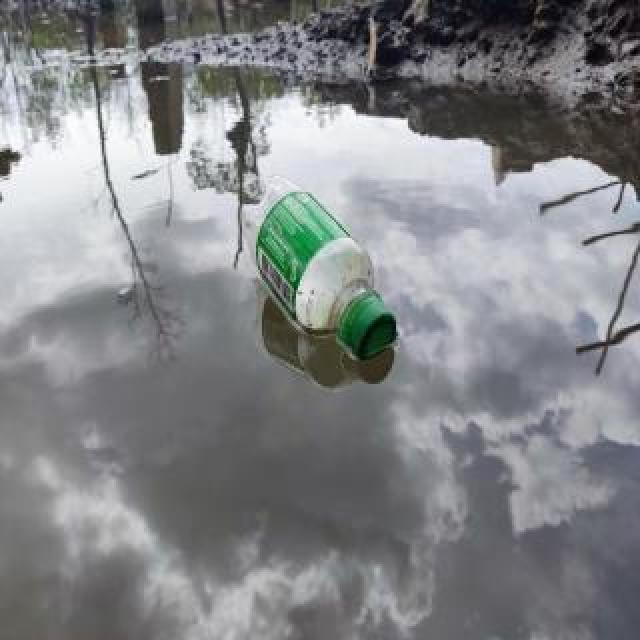bottle: (237, 170, 401, 364)
